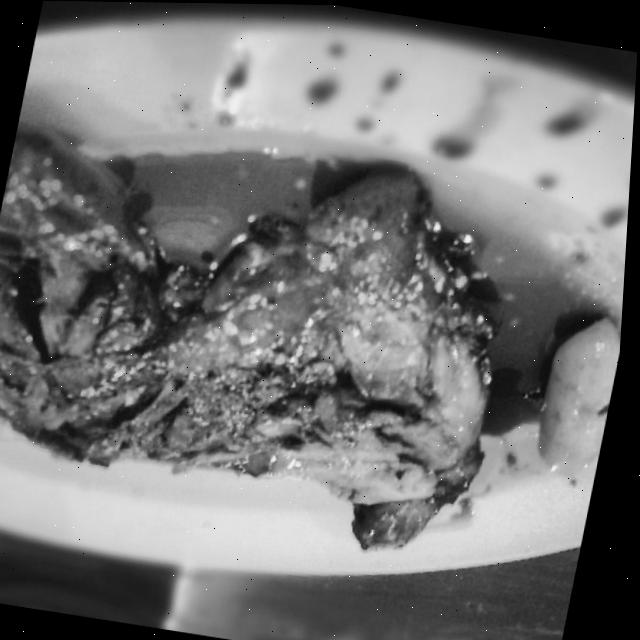鸡肉料理 含炸鸡: (0, 5, 621, 640)
